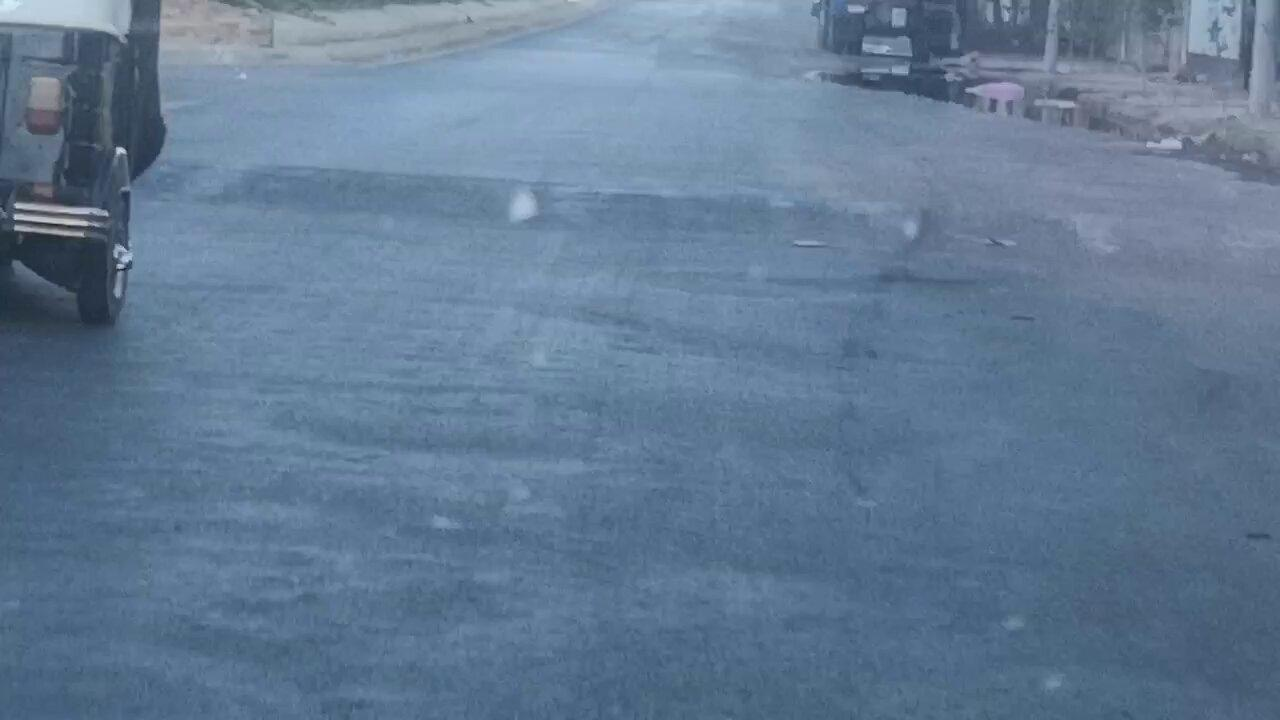Bump: (188, 150, 1252, 270)
